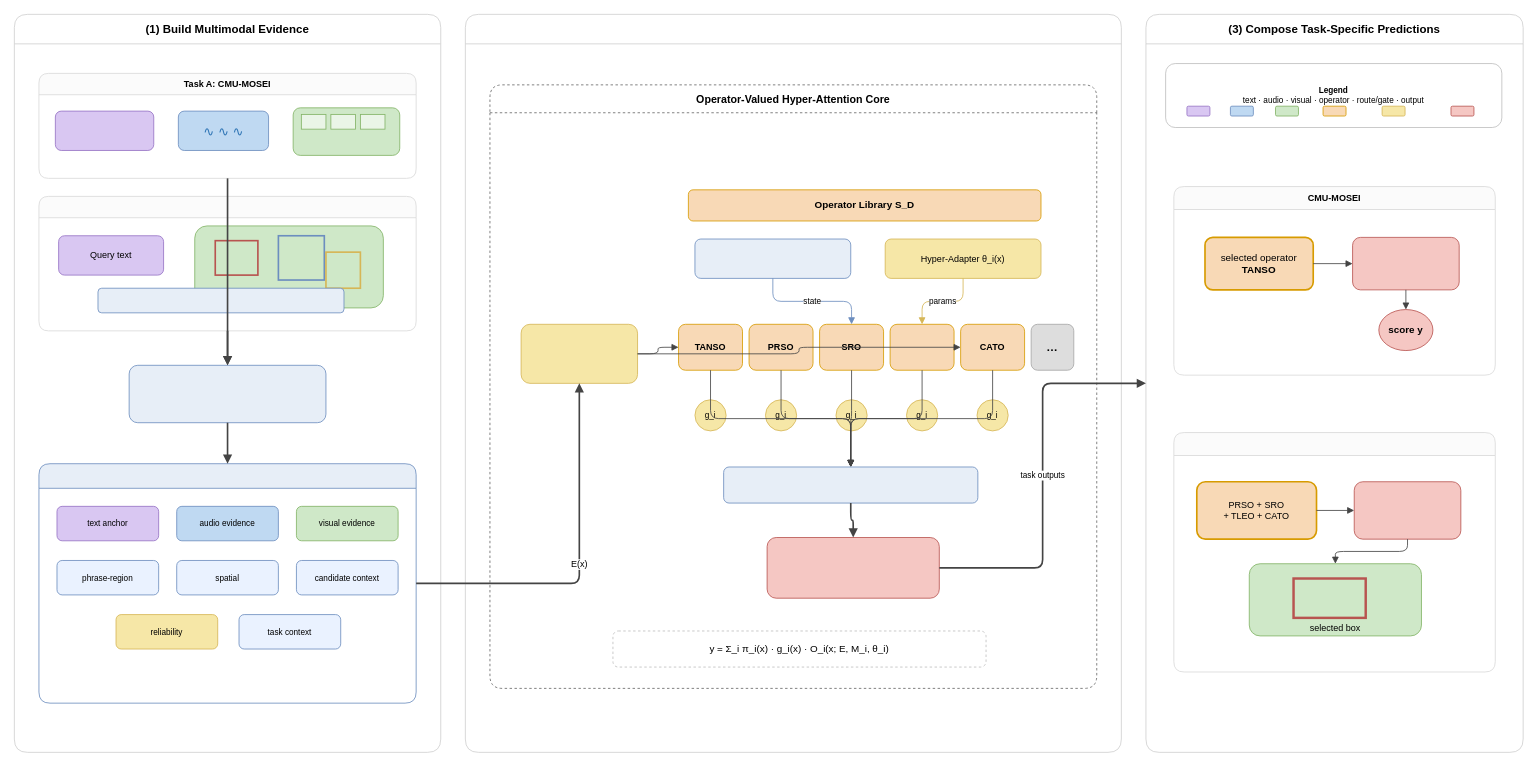
Image size: 1538x767. Some labels were removed from this diagram. Each missing label, with the box of its shape:
(2) Route over Typed Relation Operators: (465, 14, 1121, 752)
Audio waveform: (178, 110, 269, 150)
candidate reranking: (1353, 481, 1461, 539)
CLIP features · geometry · query tokens: (97, 287, 344, 313)
Evidence Bank E(x): (38, 463, 416, 703)
Evidence Builder normalize modality/task cues: (128, 364, 326, 423)
Evidence Router π(x): (520, 323, 638, 383)
Operator Memory M_i(x): (694, 238, 851, 278)
operator outputs o_i(x): (723, 466, 978, 503)
RefCOCO: (1173, 432, 1495, 672)
sentiment regression head: (1352, 237, 1459, 290)
Task B: RefCOCO: (38, 196, 416, 331)
Text utterance: (55, 110, 154, 150)
TLEO: (889, 323, 954, 370)
Video frames: (292, 107, 400, 155)
Weighted Operator Composition: (766, 537, 939, 598)
